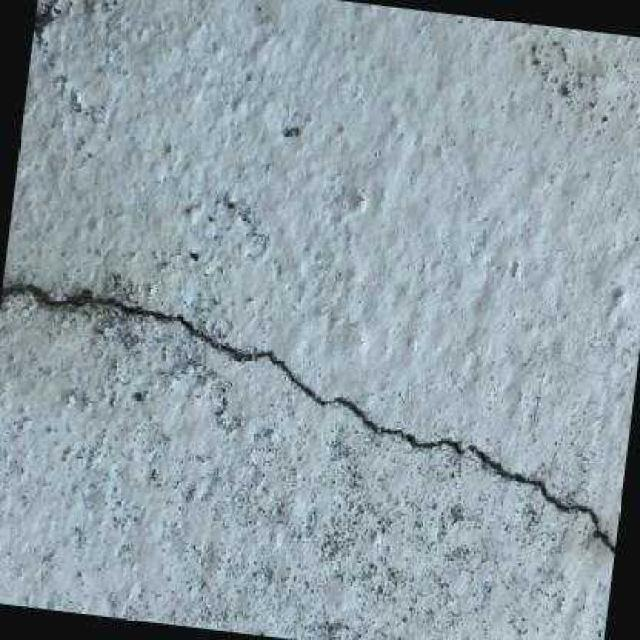D00: (0, 277, 467, 455), (465, 441, 614, 560)
